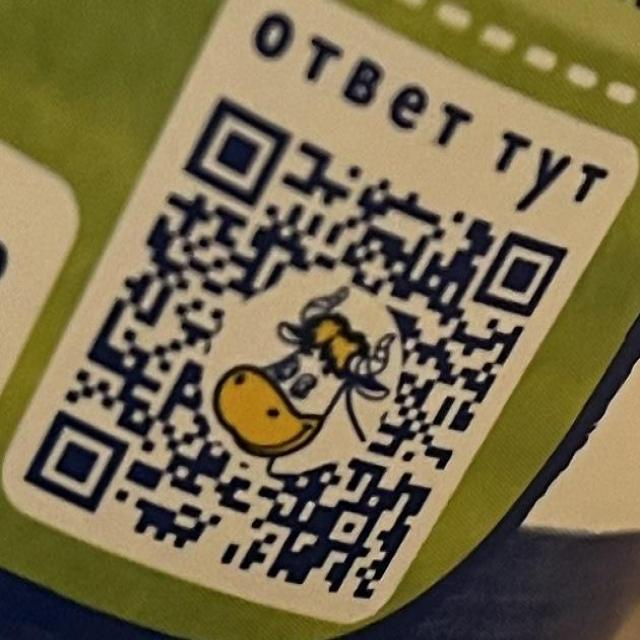QR_CODE: (23, 93, 568, 600)
